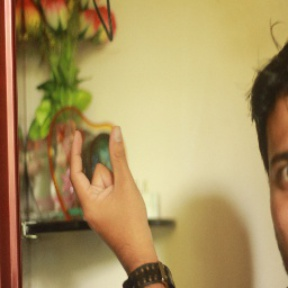U: (64, 121, 155, 235)
